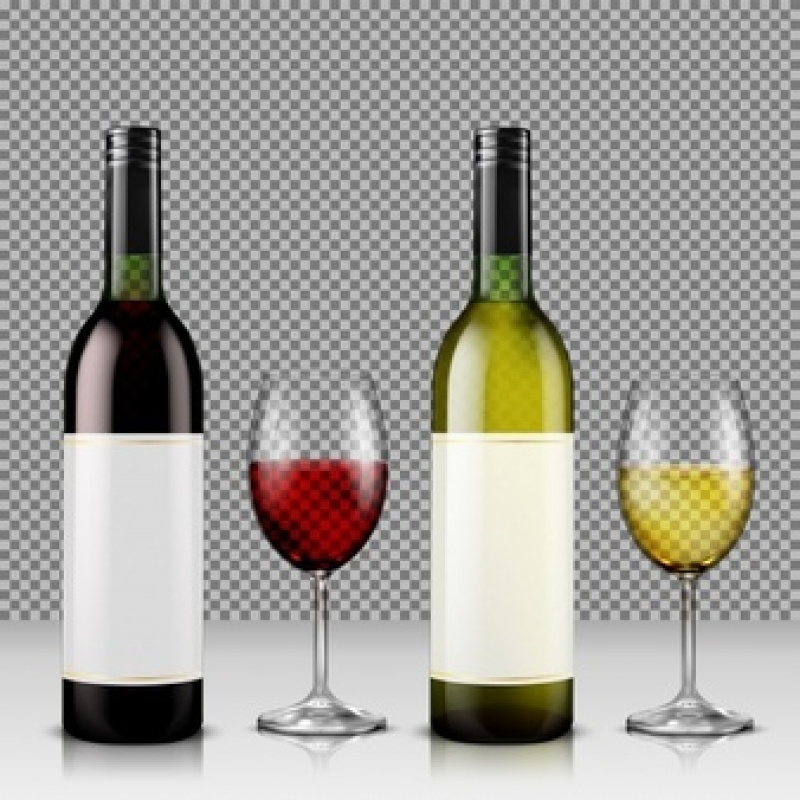wine: (52, 131, 217, 742), (426, 131, 567, 730)
